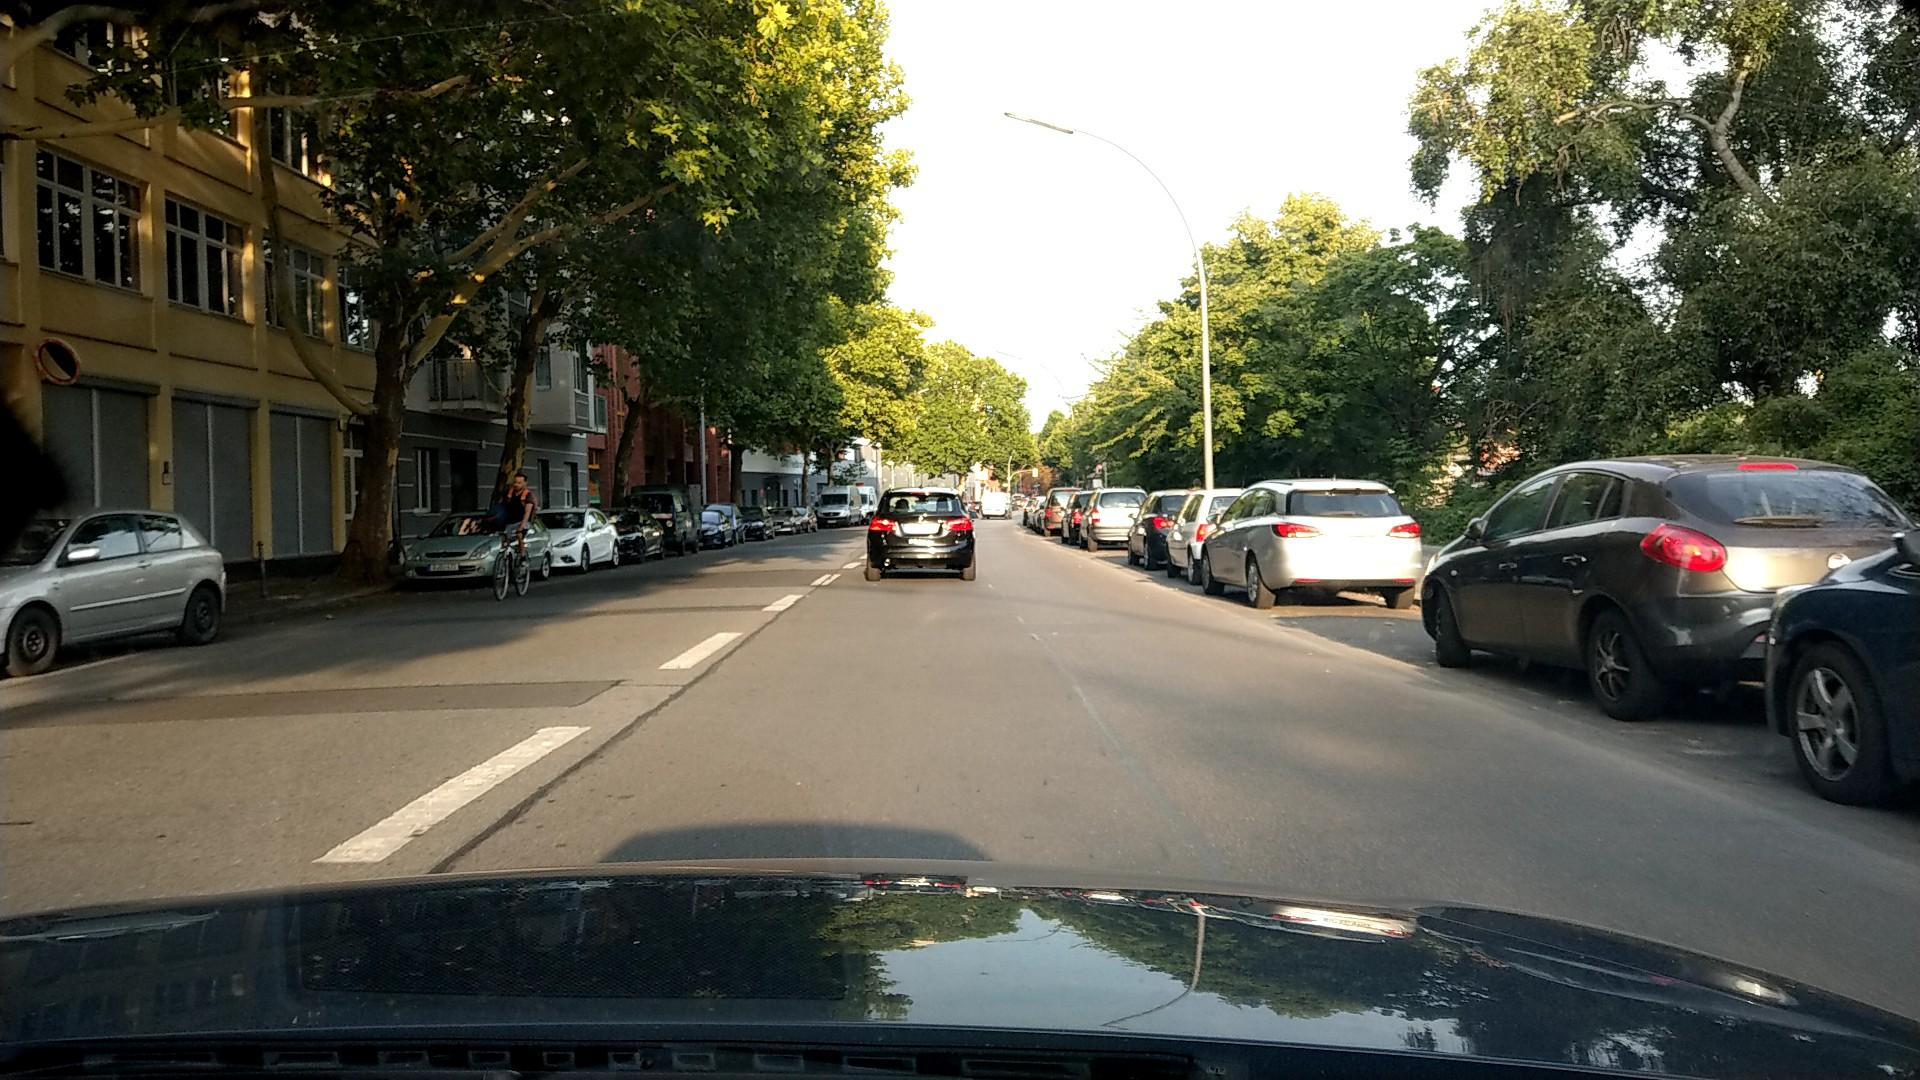Human face: (512, 472, 526, 491)
Vehicle registration plate: (900, 522, 941, 534), (427, 563, 459, 572)
